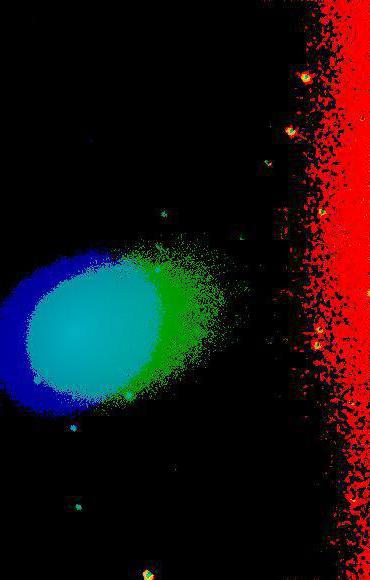star: (212, 441, 242, 471)
